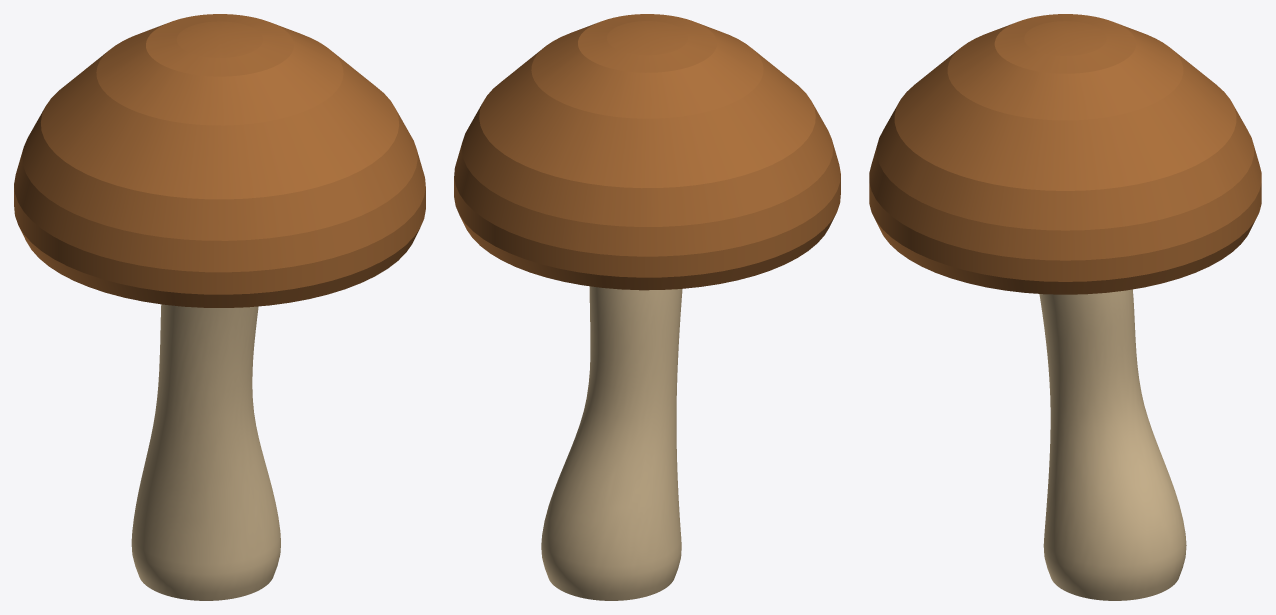
The picture shows the model from 3 angles, left to right: view 1: azimuth 30°, elevation 25°; view 2: azimuth 150°, elevation 25°; view 3: azimuth 270°, elevation 25°; orthographic projection. The views are drawn at different scales.
Visible parts, largest first — view 1: cap, stem; view 2: cap, stem; view 3: cap, stem.
Boxes of the visible parts, x1,y1,x2,y2 form: cap: [14, 14, 425, 307]; stem: [131, 304, 280, 600]; cap: [454, 14, 840, 290]; stem: [541, 286, 682, 600]; cap: [869, 14, 1261, 294]; stem: [1039, 289, 1186, 600].
Size of the model in its own units: 0.0666 by 0.1 by 0.0665.
